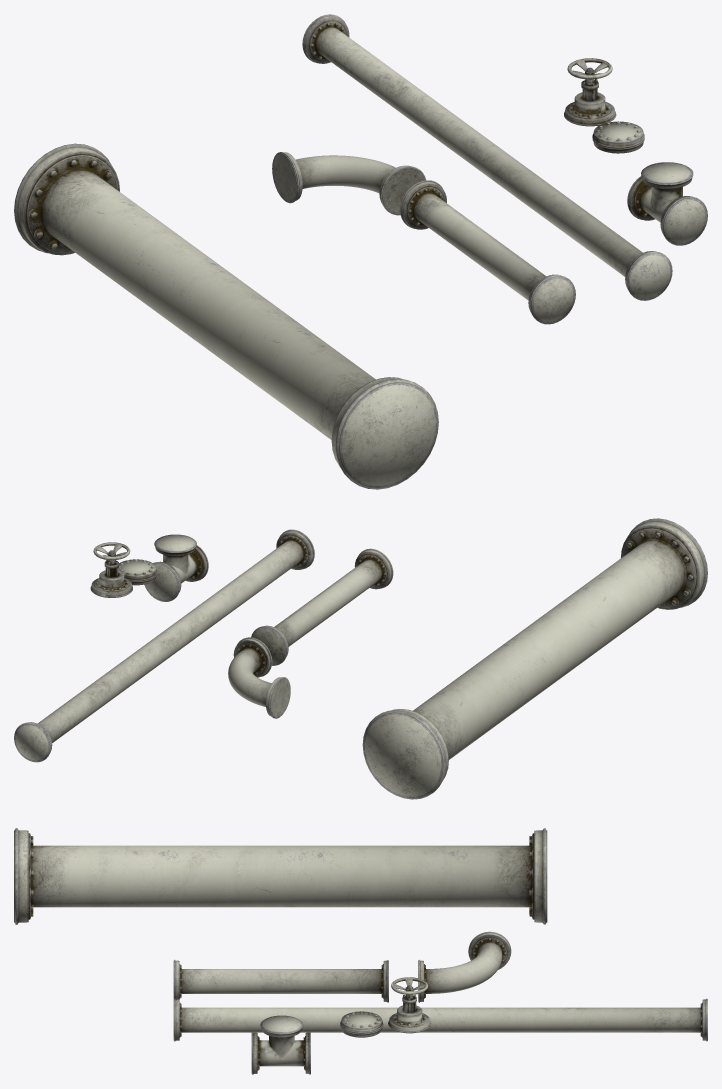
The model's file is industrial_pipes_pack.glb.
3 renders of one model, top to bottom at view 1: azimuth 30°, elevation 25°; view 2: azimuth 150°, elevation 25°; view 3: azimuth 270°, elevation 25°, orthographic. The views are drawn at different scales.
Parts seen in each view (by area): view 1: Cylinder.044, Cylinder.038, Cylinder.036, Cylinder.040, Cylinder.011, Cylinder.075, Cylinder.081; view 2: Cylinder.044, Cylinder.038, Cylinder.036, Cylinder.040, Cylinder.011, Cylinder.075, Cylinder.081; view 3: Cylinder.044, Cylinder.038, Cylinder.036, Cylinder.040, Cylinder.011, Cylinder.075, Cylinder.081, Torus.001.
Boxes of the visible parts, box(x1,y1,x2,y2) form: Cylinder.044: box(14, 143, 438, 489); Cylinder.038: box(302, 14, 672, 300); Cylinder.036: box(400, 180, 575, 324); Cylinder.040: box(272, 152, 425, 215); Cylinder.011: box(627, 162, 707, 245); Cylinder.075: box(564, 92, 616, 126); Cylinder.081: box(592, 121, 644, 147); Cylinder.044: box(362, 518, 707, 799); Cylinder.038: box(14, 529, 314, 762); Cylinder.036: box(251, 548, 393, 665); Cylinder.040: box(228, 637, 290, 718); Cylinder.011: box(144, 534, 208, 601); Cylinder.075: box(90, 570, 132, 597); Cylinder.081: box(118, 559, 157, 580); Cylinder.044: box(14, 828, 547, 924); Cylinder.038: box(173, 998, 707, 1041); Cylinder.036: box(173, 959, 388, 1002); Cylinder.040: box(418, 931, 511, 1002); Cylinder.011: box(251, 1015, 310, 1074); Cylinder.075: box(388, 1005, 431, 1033); Cylinder.081: box(340, 1011, 383, 1033); Torus.001: box(391, 977, 427, 994).
Size of the model in its own units: 920 by 235 by 1306.
Materials: 1 (1 with a texture image).
